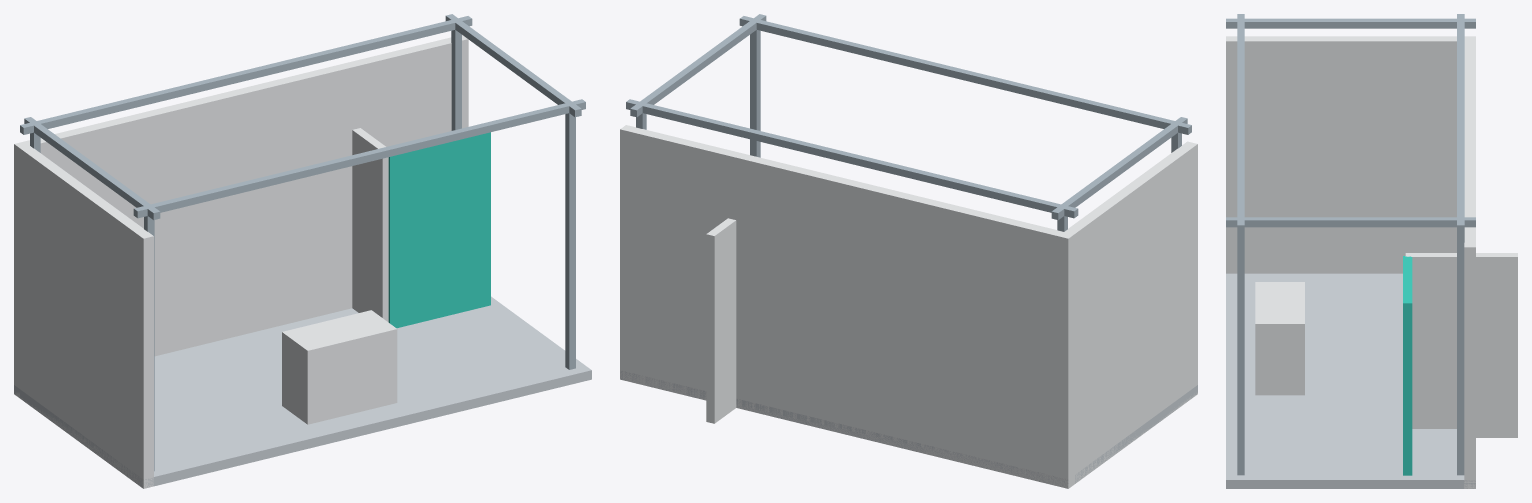
3 views of the same model, side by side, from view 1: azimuth 30°, elevation 25°; view 2: azimuth 150°, elevation 25°; view 3: azimuth 270°, elevation 25° (orthographic). The views are drawn at different scales.
Parts seen in each view (by area): view 1: Exhibition Booth Concept; view 2: Exhibition Booth Concept; view 3: Exhibition Booth Concept.
Boxes of the visible parts, bbox=[...] form: Exhibition Booth Concept: bbox=[14, 14, 591, 488]; Exhibition Booth Concept: bbox=[620, 14, 1197, 488]; Exhibition Booth Concept: bbox=[1226, 14, 1517, 488].
Bounding box in the file's own units: 6 × 3.49 × 3.51.
